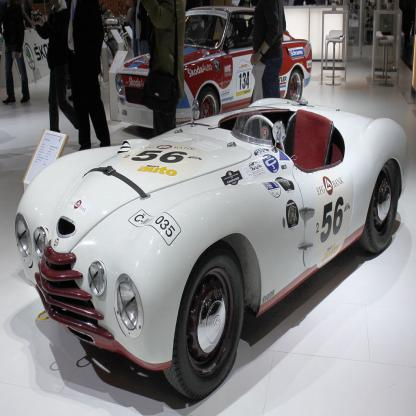Car: (15, 98, 409, 400), (115, 6, 312, 128)
